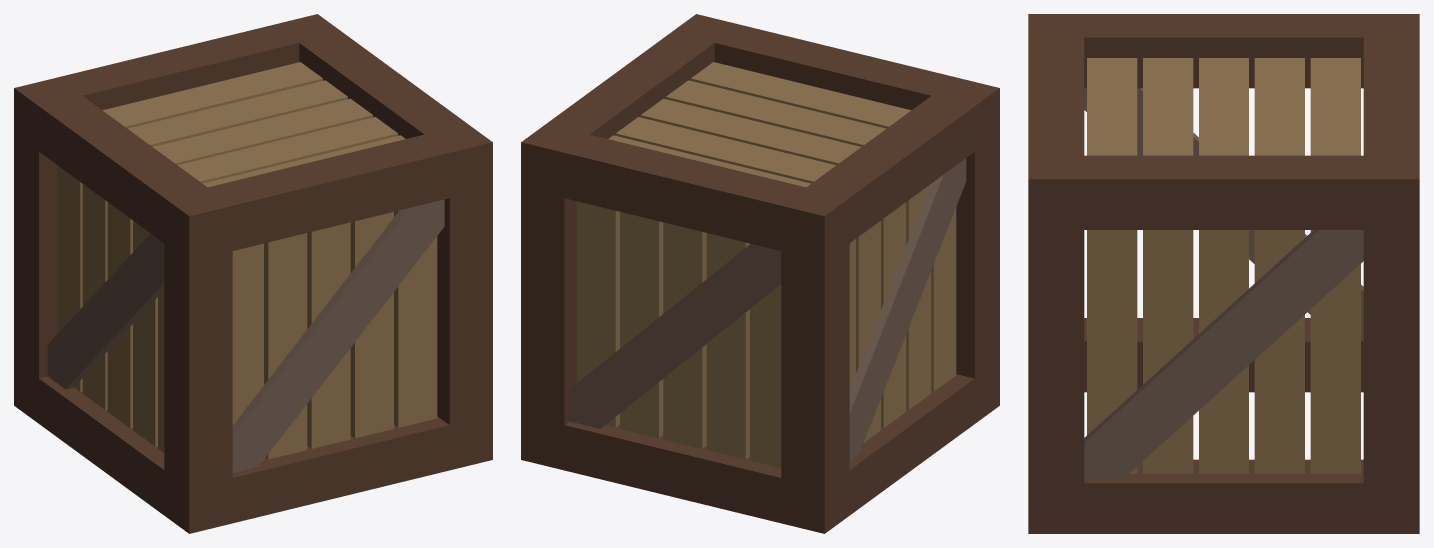
Rendered from test-crate-2.glb.
3 views of the same model, side by side, from view 1: azimuth 30°, elevation 25°; view 2: azimuth 150°, elevation 25°; view 3: azimuth 270°, elevation 25° (orthographic). The views are drawn at different scales.
Parts seen in each view (by area): view 1: Cube.025, Cube.027, Cube.006, Cube.044, Cube.024, Cube.012, Cube.029, Cube.005, Cube.042, Cube.031, Cube.028, Cube.015 (+15 smaller); view 2: Cube.024, Cube.026, Cube.005, Cube.045, Cube.025, Cube.018, Cube.029, Cube.006, Cube.042, Cube.031, Cube.028, Cube.002 (+15 smaller); view 3: Cube.028, Cube.043, Cube.030, Cube.012, Cube.018, Cube.029, Cube.025, Cube.024, Cube.019, Cube.023, Cube.020, Cube.022 (+10 smaller).
Boxes of the visible parts, x1,y1,x2,y2 form: Cube.025: [164, 124, 492, 261]; Cube.027: [164, 414, 492, 533]; Cube.006: [164, 243, 232, 488]; Cube.044: [232, 199, 444, 472]; Cube.024: [14, 14, 341, 151]; Cube.012: [437, 187, 492, 424]; Cube.029: [39, 96, 207, 242]; Cube.005: [14, 133, 57, 378]; Cube.042: [47, 233, 164, 389]; Cube.031: [39, 376, 164, 515]; Cube.028: [299, 32, 467, 138]; Cube.015: [394, 210, 437, 427]; Cube.024: [521, 124, 849, 261]; Cube.026: [521, 414, 849, 533]; Cube.005: [781, 243, 849, 488]; Cube.045: [569, 244, 781, 428]; Cube.025: [672, 14, 999, 151]; Cube.018: [521, 187, 576, 424]; Cube.029: [806, 96, 974, 242]; Cube.006: [956, 133, 999, 378]; Cube.042: [849, 158, 966, 461]; Cube.031: [849, 374, 974, 515]; Cube.028: [546, 32, 714, 138]; Cube.002: [576, 201, 619, 427]; Cube.028: [1084, 155, 1363, 229]; Cube.043: [1084, 230, 1363, 478]; Cube.030: [1084, 459, 1363, 533]; Cube.012: [1028, 230, 1084, 483]; Cube.018: [1363, 230, 1419, 483]; Cube.029: [1084, 14, 1363, 88]; Cube.025: [1028, 14, 1084, 229]; Cube.024: [1363, 14, 1419, 229]; Cube.019: [1310, 230, 1360, 473]; Cube.023: [1087, 230, 1137, 473]; Cube.020: [1254, 230, 1304, 473]; Cube.022: [1143, 230, 1193, 473].
Size of the model in its own units: 3.5 by 3.5 by 3.5.
